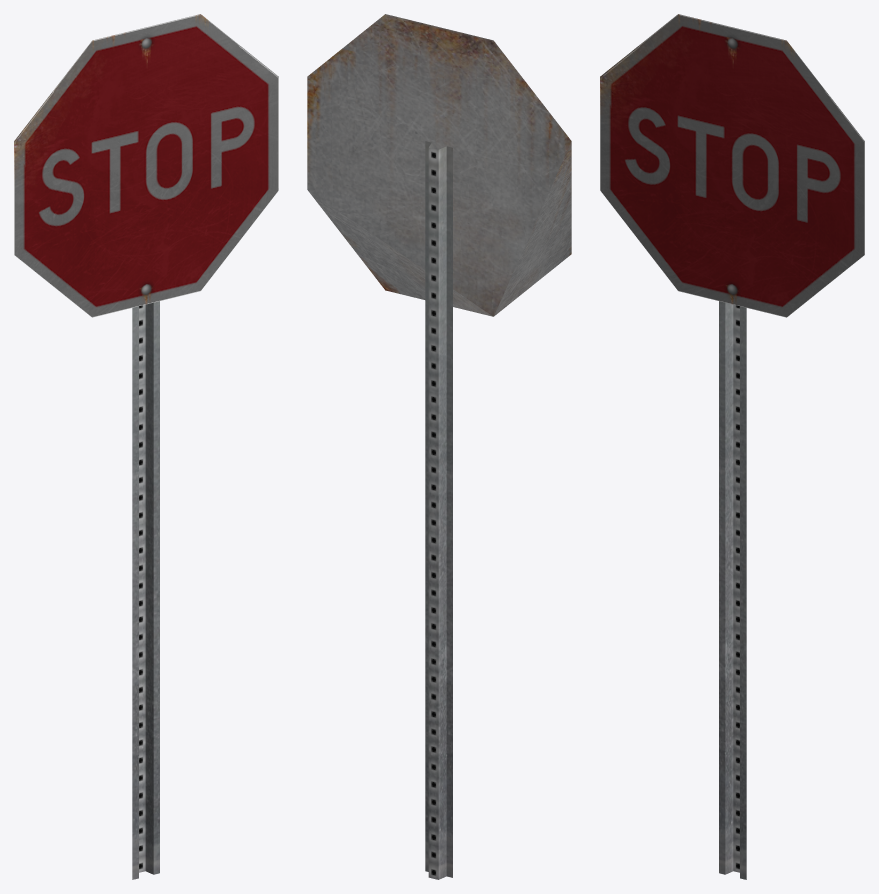
Rendered from stopsign.obj.
3 views of the same model, side by side, from view 1: azimuth 30°, elevation 25°; view 2: azimuth 150°, elevation 25°; view 3: azimuth 330°, elevation 25° (orthographic).
Visible parts, largest first — view 1: Box001; view 2: Box001; view 3: Box001.
Boxes of the visible parts, bbox=[...] form: Box001: bbox=[14, 14, 278, 879]; Box001: bbox=[307, 14, 571, 879]; Box001: bbox=[600, 14, 864, 879].
Size of the model in its own units: 0.5931 by 1.82 by 0.0228.
1 material, 1 textured.
